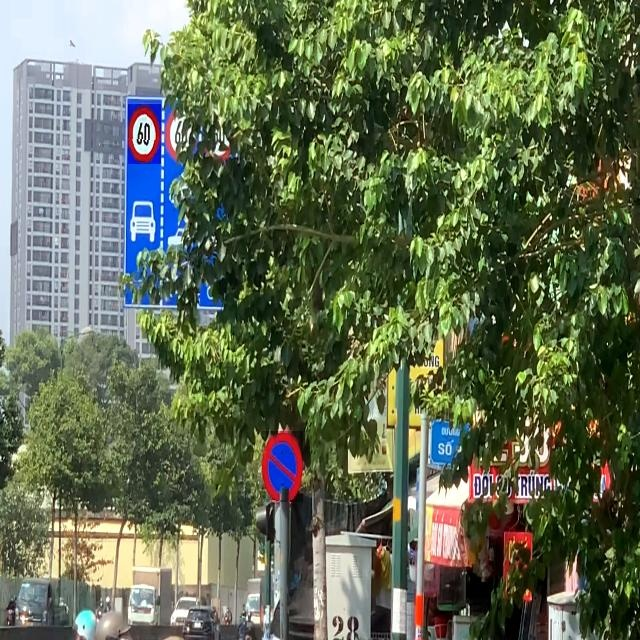bien_chi_dan: (262, 431, 303, 502), (128, 104, 161, 164)
